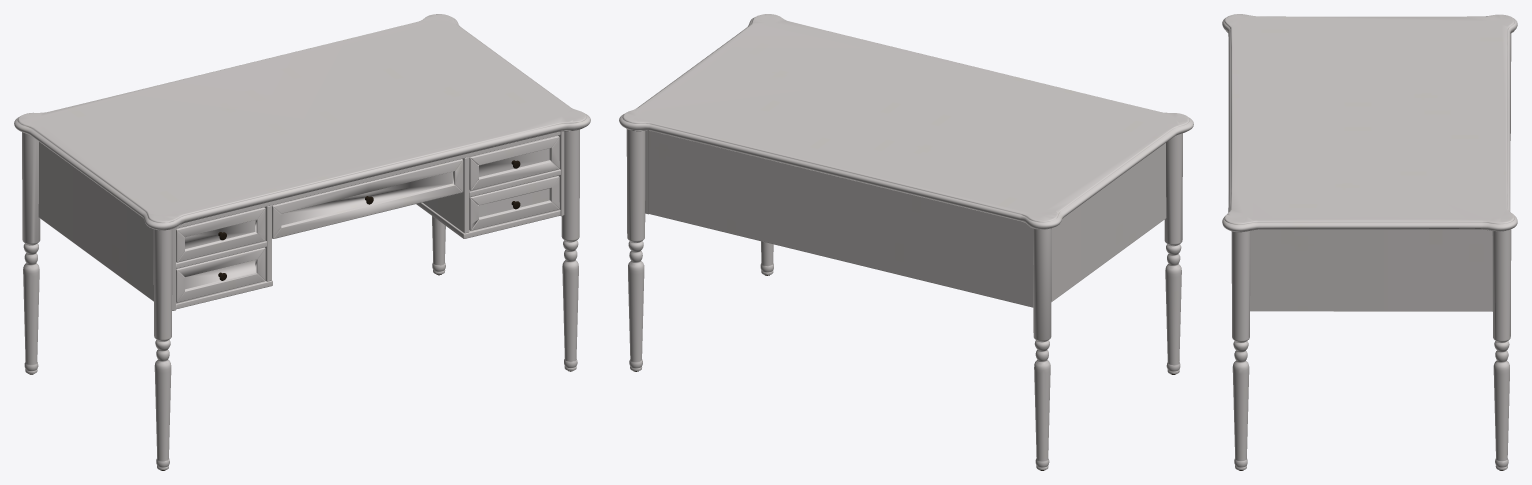
Rendered from B07QJLWJMY.glb.
3 renders of one model, left to right at view 1: azimuth 30°, elevation 25°; view 2: azimuth 150°, elevation 25°; view 3: azimuth 270°, elevation 25°, orthographic.
Visible parts, largest first — view 1: RootNode; view 2: RootNode; view 3: RootNode.
Boxes of the visible parts, x1,y1,x2,y2 form: RootNode: [14, 14, 590, 470]; RootNode: [619, 14, 1193, 470]; RootNode: [1222, 14, 1517, 470].
Bounding box in the file's own units: 1.38 × 0.7619 × 0.8066.
1 material, 1 textured.
